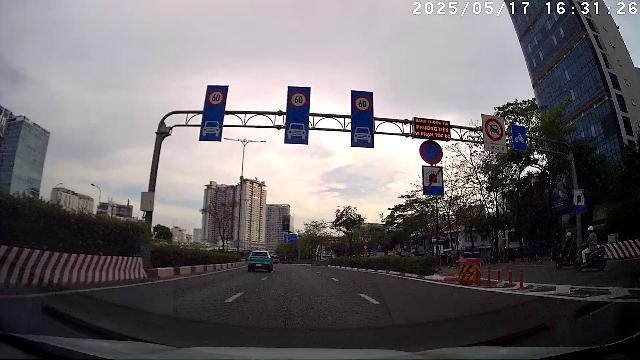103a-cam-oto: (484, 118, 504, 141)
127-toc-do-toi-da-60: (289, 90, 308, 108), (353, 95, 371, 113), (207, 89, 225, 106)
131a-cam-do-xe: (419, 140, 443, 165)
